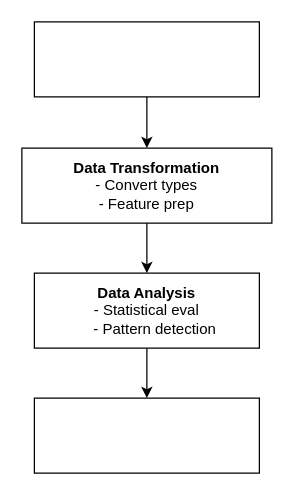
Some shapes in this 294 by 495 pixel diagram are drawn without their labels. Each missing label, with the centre of its shape:
Data Cleaning - Handle nulls - filling Missing Data: point 146,59
Visualization - Graphs, Charts - Dashboards: point 146,435
